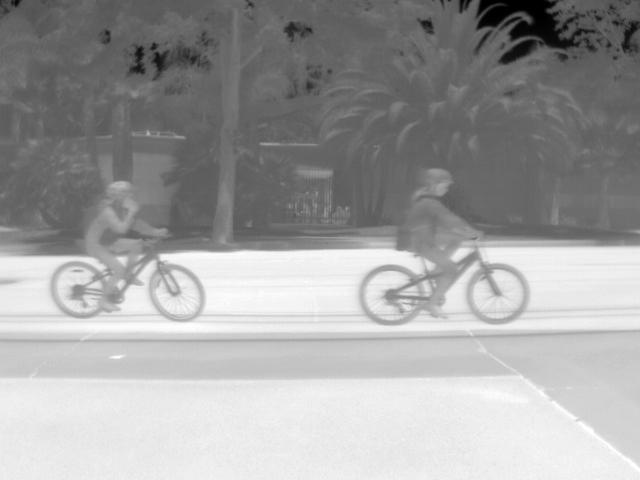person: (394, 168, 480, 318), (83, 179, 169, 311)
